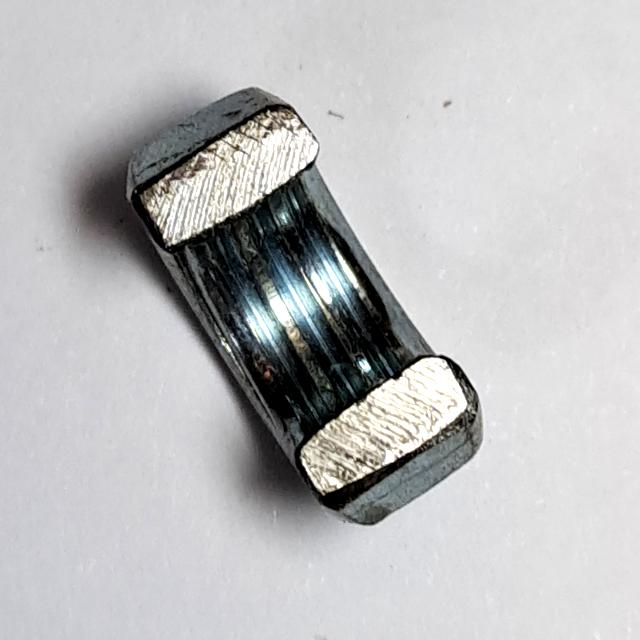Side-Fracture: (102, 70, 503, 540)
